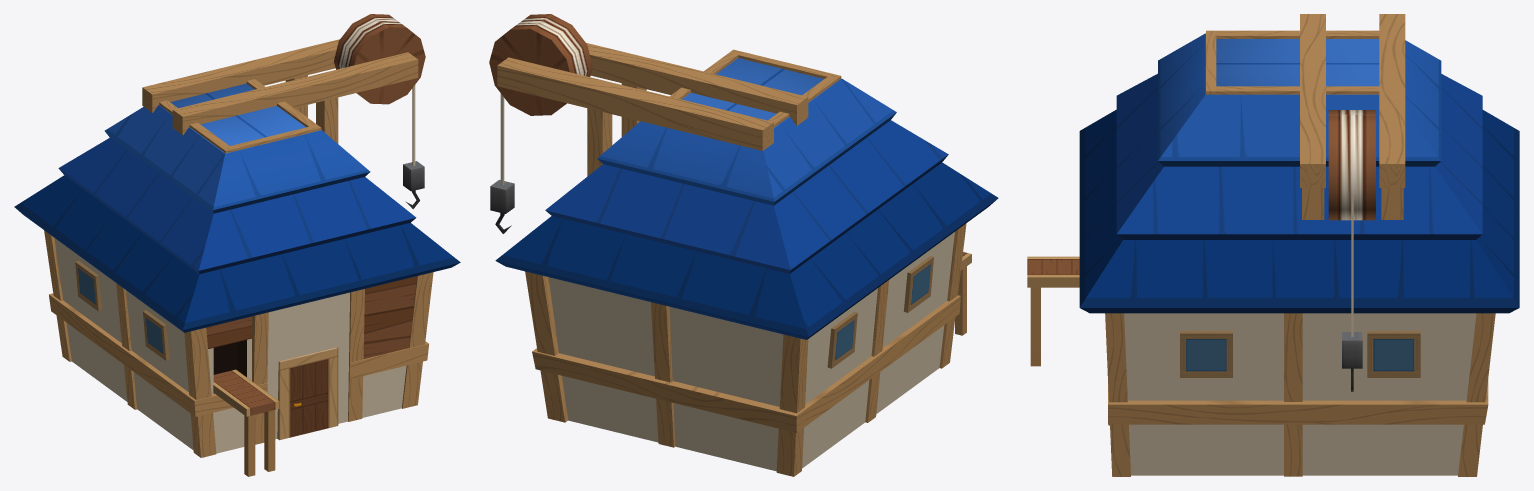
Rendered from building_storage_lv3.FBX.
The picture shows the model from 3 angles, left to right: view 1: azimuth 30°, elevation 25°; view 2: azimuth 150°, elevation 25°; view 3: azimuth 270°, elevation 25°; orthographic projection. The views are drawn at different scales.
Visible parts, largest first — view 1: building_storage_lv3, building_storage_roof_lv3; view 2: building_storage_lv3, building_storage_roof_lv3; view 3: building_storage_roof_lv3, building_storage_lv3.
Part boxes in pixels (box(x1,y1,x2,y2)): building_storage_lv3: box(44, 14, 433, 476); building_storage_roof_lv3: box(14, 83, 460, 332); building_storage_lv3: box(489, 14, 971, 476); building_storage_roof_lv3: box(495, 58, 998, 339); building_storage_roof_lv3: box(1079, 33, 1519, 313); building_storage_lv3: box(1027, 14, 1495, 476).
Size of the model in its own units: 502 by 426 by 479.
